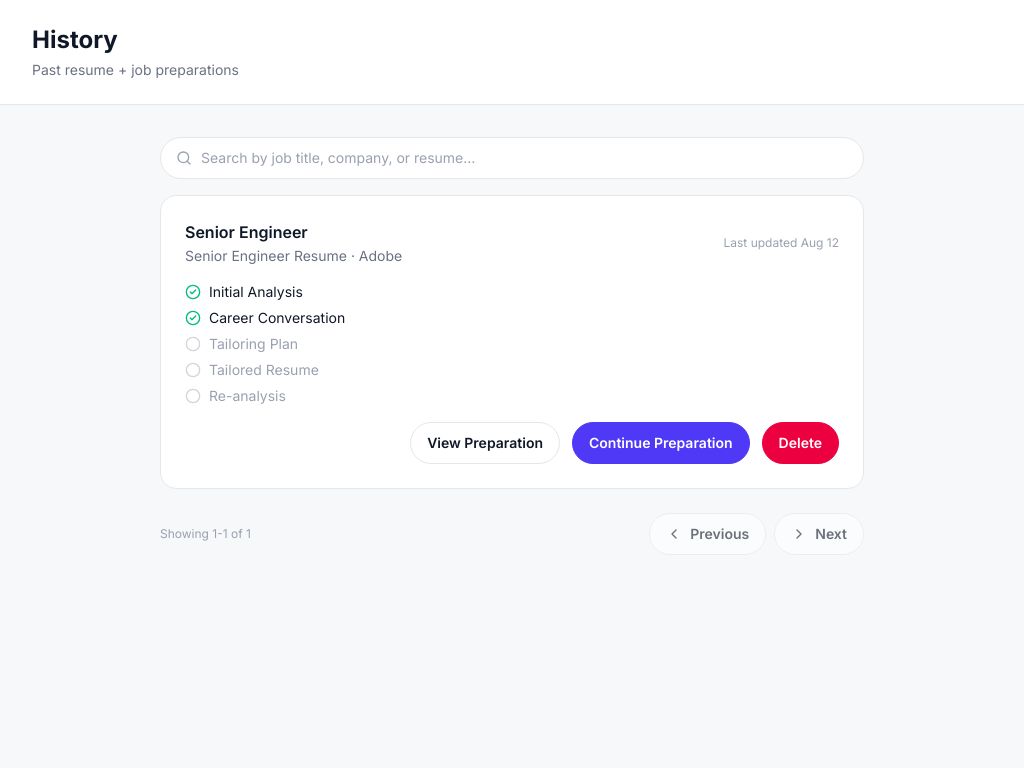
Scenario: HistoryPage › cancelling the confirmation dialog does not rehydrate or navigate
Step 1. Click the button "Continue Preparation" → (661, 443), box [572, 422, 750, 464]
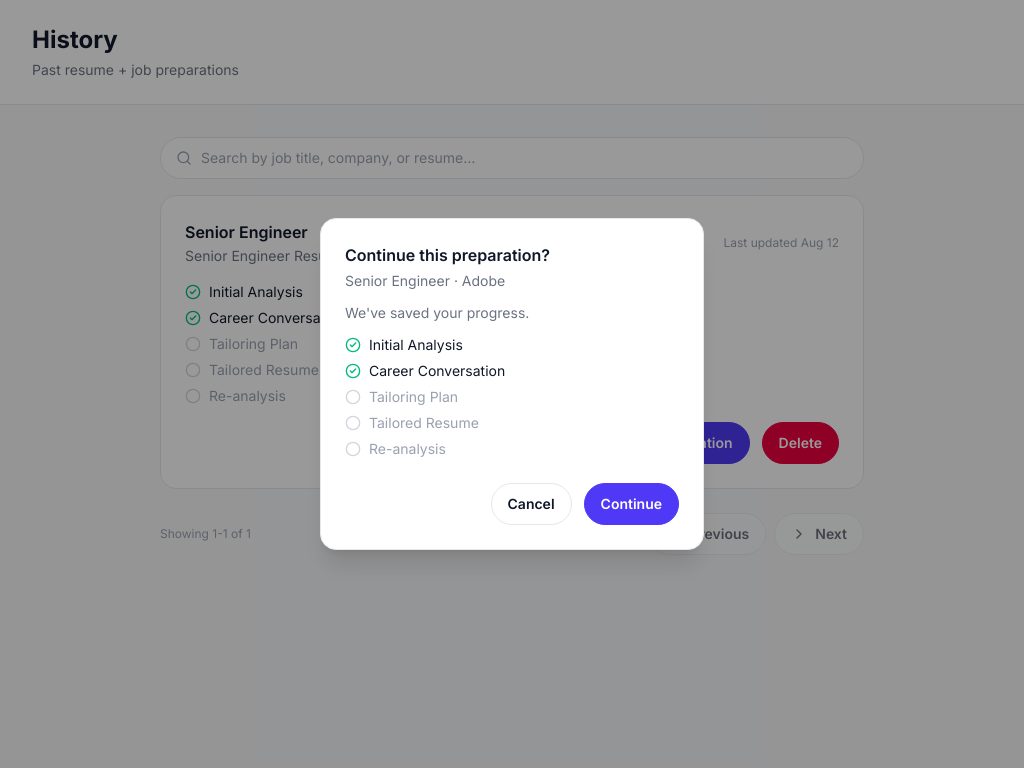
Step 2. Click the button "Cancel" → (531, 504), box [490, 483, 572, 525]
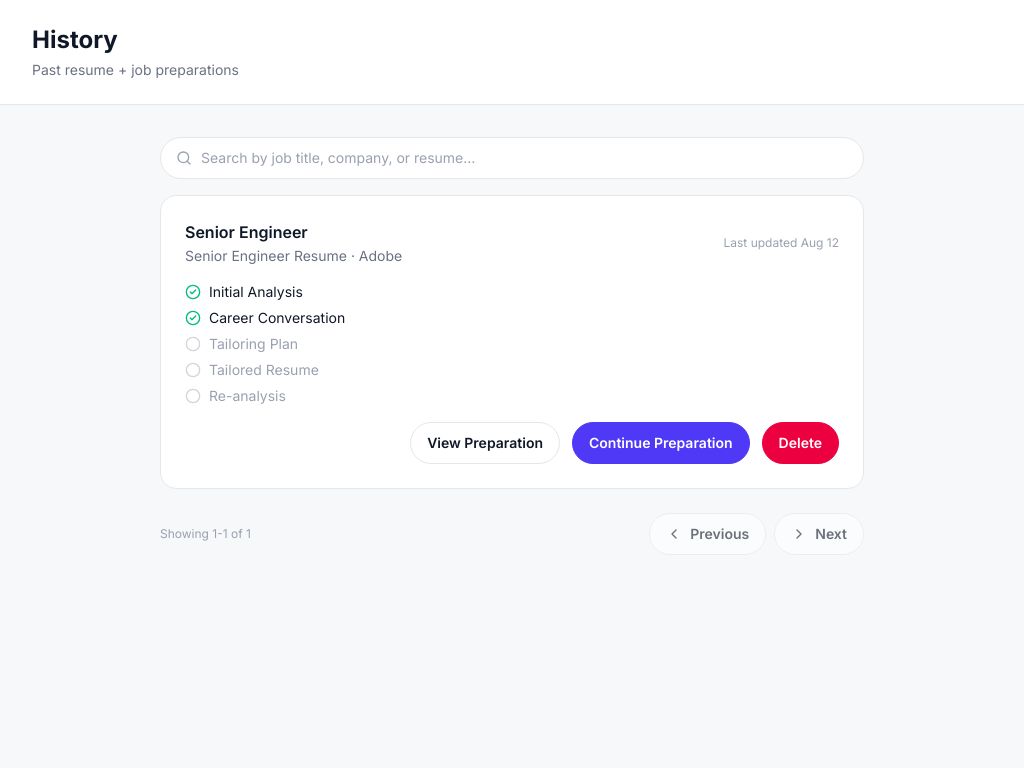
Now the heading "Continue this preparation?" is gone
